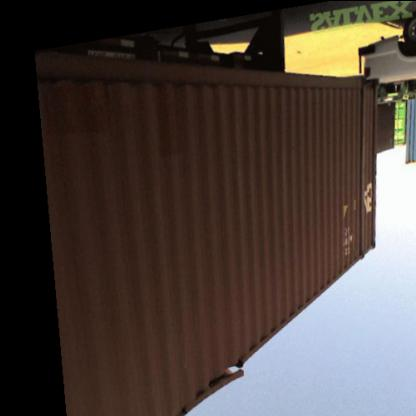Damage: (164, 358, 256, 416), (348, 90, 373, 268)
